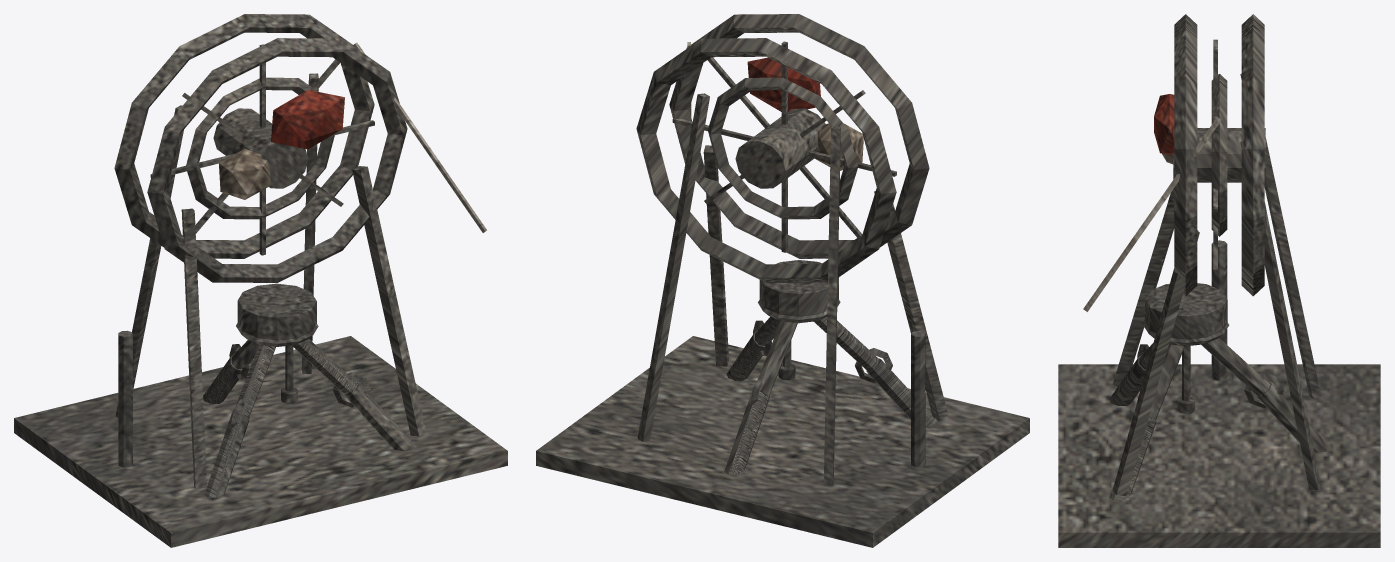
The model's file is north-debris-catcher.glb.
The picture shows the model from 3 angles, left to right: view 1: azimuth 30°, elevation 25°; view 2: azimuth 150°, elevation 25°; view 3: azimuth 270°, elevation 25°; orthographic projection. The views are drawn at different scales.
Visible parts, largest first — view 1: north-debris-catcher; view 2: north-debris-catcher; view 3: north-debris-catcher.
Boxes of the visible parts, x1,y1,x2,y2 form: north-debris-catcher: (14,14,507,547); north-debris-catcher: (536,14,1029,547); north-debris-catcher: (1058,14,1380,547).
Bounding box in the file's own units: 5.2 × 6.3 × 4.2.
1 material, 1 textured.
